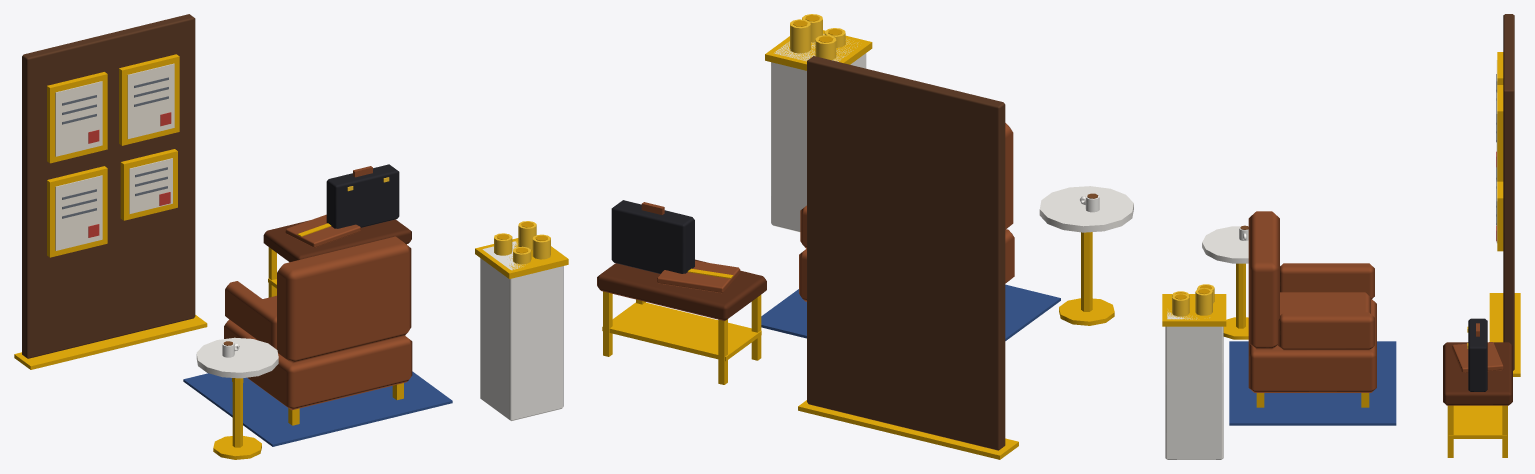
Rendered from station_processing_1.glb.
3 renders of one model, left to right at view 1: azimuth 30°, elevation 25°; view 2: azimuth 150°, elevation 25°; view 3: azimuth 270°, elevation 25°, orthographic. The views are drawn at different scales.
Parts seen in each view (by area): view 1: station_processing_1; view 2: station_processing_1; view 3: station_processing_1.
Boxes of the visible parts, bbox=[...] form: station_processing_1: bbox=[14, 14, 568, 459]; station_processing_1: bbox=[597, 14, 1133, 459]; station_processing_1: bbox=[1162, 14, 1520, 459].
Size of the model in its own units: 2.02 by 1.62 by 1.85.
